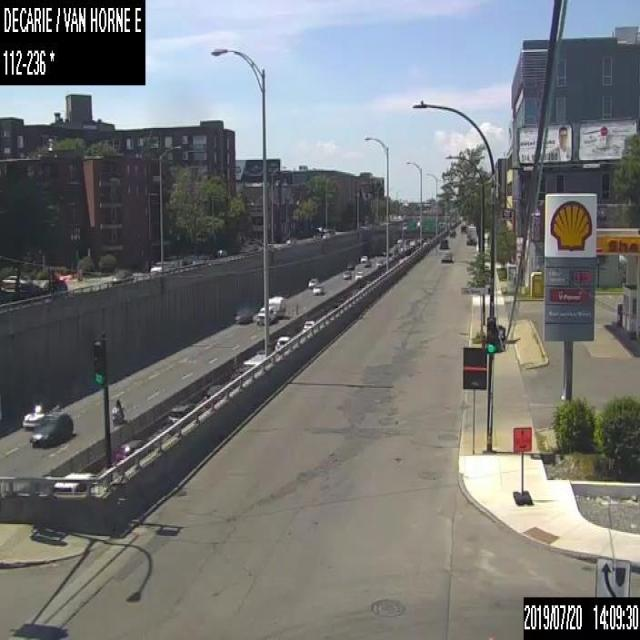construction: (512, 424, 531, 503)
vehicle: (31, 411, 74, 448), (51, 469, 96, 494), (22, 403, 59, 427), (255, 296, 284, 324), (166, 402, 200, 424), (113, 436, 146, 457), (13, 282, 39, 299), (41, 276, 66, 292), (110, 398, 124, 424), (202, 383, 226, 398), (2, 274, 27, 288), (112, 268, 134, 283), (234, 306, 252, 323), (273, 333, 289, 351), (149, 260, 166, 274), (466, 224, 475, 244), (312, 282, 324, 294), (302, 319, 314, 329), (308, 276, 318, 288), (354, 269, 364, 280), (341, 269, 351, 279), (440, 252, 451, 261), (346, 259, 355, 269), (439, 239, 448, 248), (359, 254, 367, 262), (447, 228, 455, 236), (376, 258, 382, 266), (364, 260, 371, 266)
